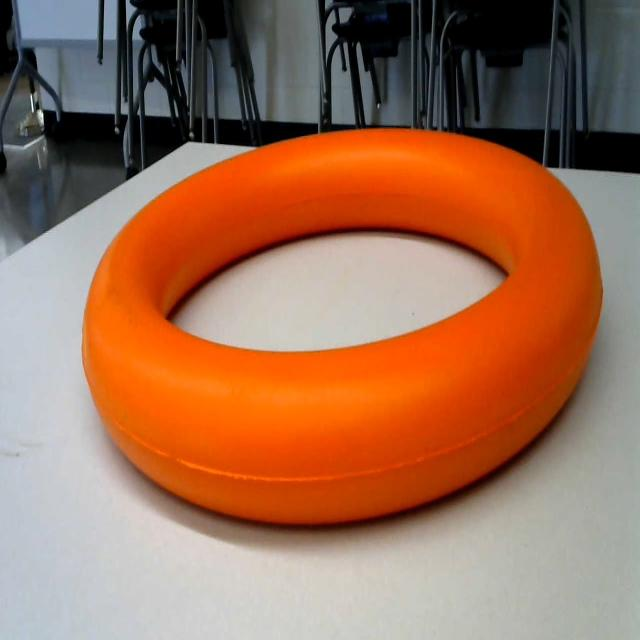note: (80, 119, 620, 566)
